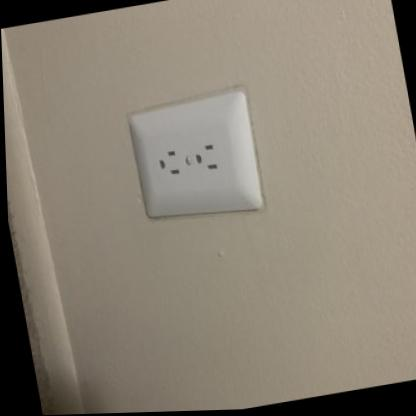OUTLET: (126, 88, 264, 226)
